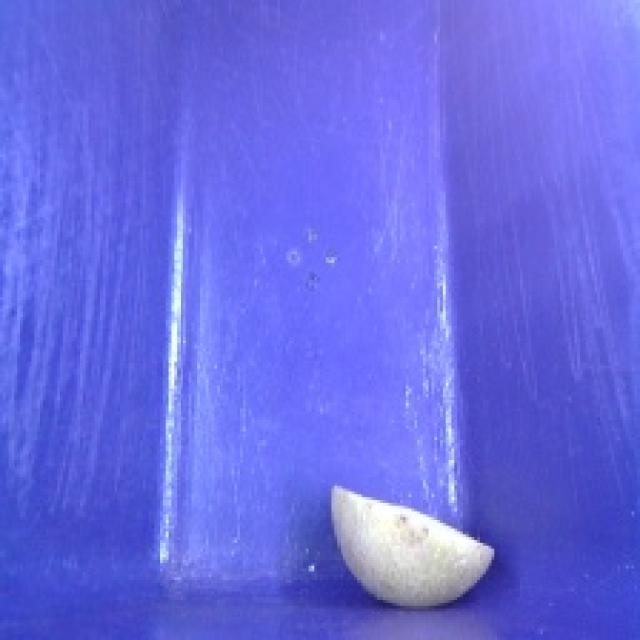potato: (316, 476, 507, 620)
